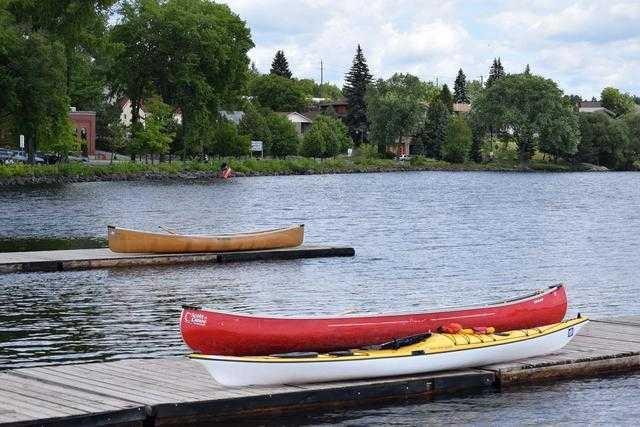kayak: (183, 287, 584, 379), (107, 222, 306, 254)
